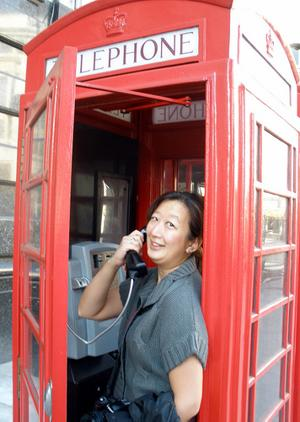person: (79, 192, 210, 420)
